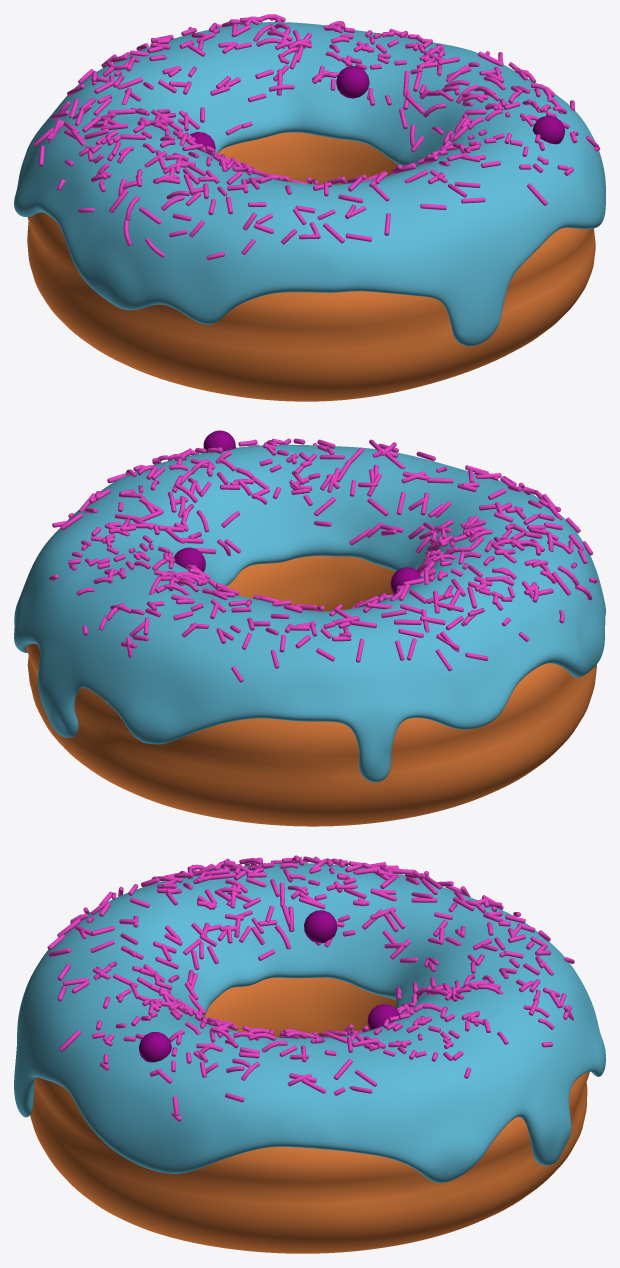
Rendered from donut.fbx.
The picture shows the model from 3 angles, top to bottom: view 1: azimuth 30°, elevation 25°; view 2: azimuth 150°, elevation 25°; view 3: azimuth 270°, elevation 25°; orthographic projection.
Visible parts, largest first — view 1: Doughnut; view 2: Doughnut; view 3: Doughnut.
Boxes of the visible parts, left/top/right/bottom form: Doughnut: left=14, top=14, right=605, bottom=401; Doughnut: left=14, top=430, right=605, bottom=826; Doughnut: left=14, top=855, right=605, bottom=1253.
Size of the model in its own units: 532 by 217 by 539.
